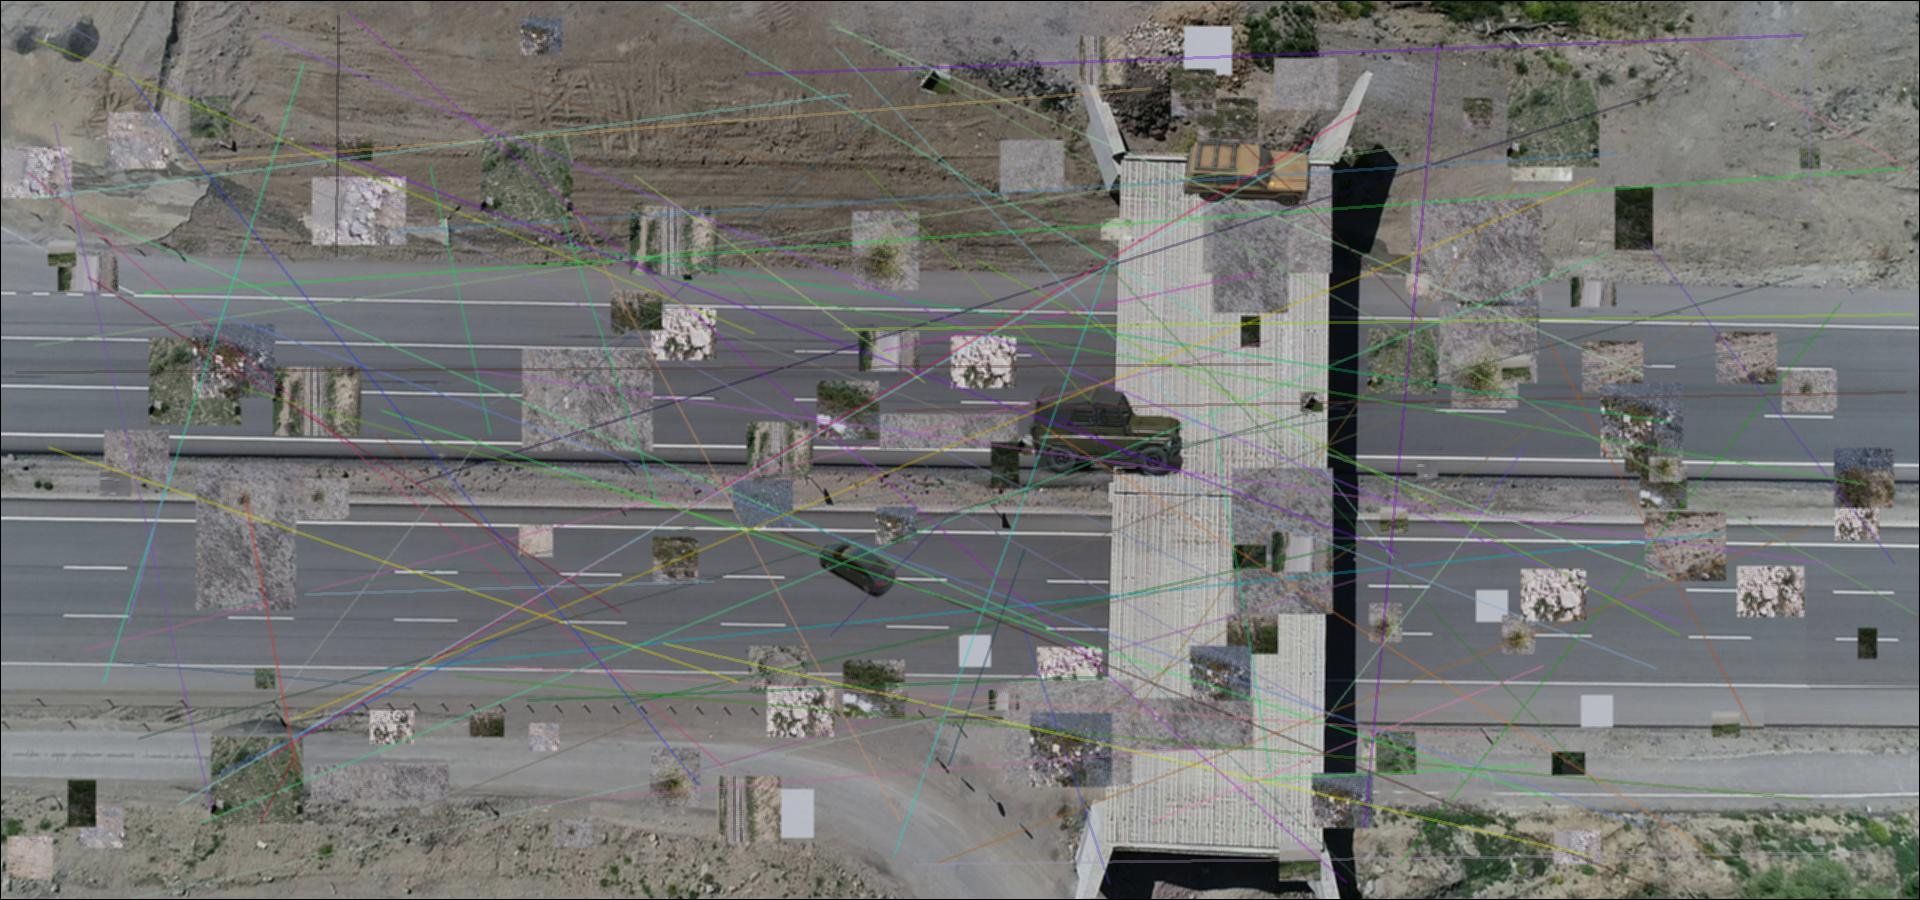arac: (1027, 386, 1183, 476), (1180, 136, 1316, 208), (820, 540, 898, 598)
